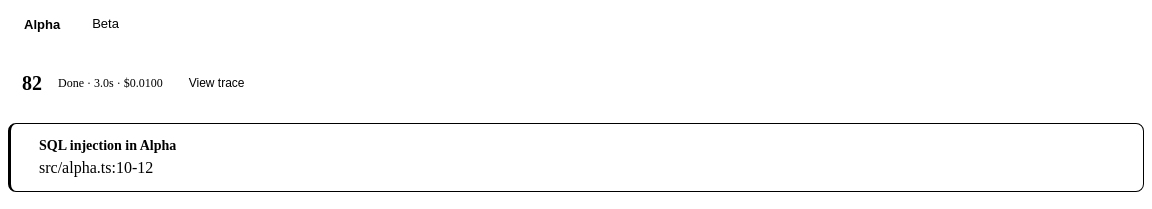
Scenario: TabsView › switching tabs changes the displayed findings (Alpha finding → Beta finding)
Expected: the text "SQL injection in Alpha" is shown, left=39, top=138, right=176, bottom=154
Expected: the text "N+1 query in Beta" is not shown
# Switch to Beta
Click the tab "Beta" at (106, 24), box left=76, top=8, right=135, bottom=41
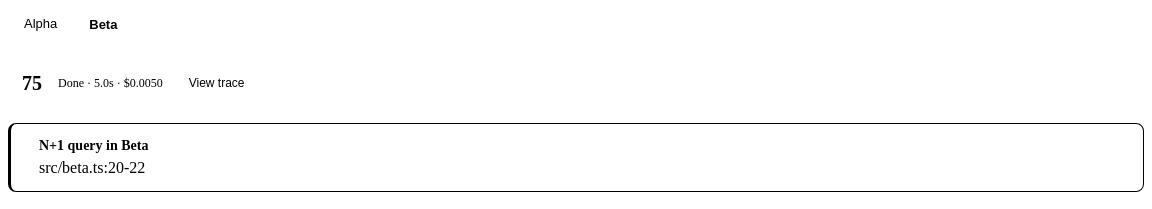
Now the text "N+1 query in Beta" is shown, box left=39, top=138, right=148, bottom=154
Now the text "SQL injection in Alpha" is gone
